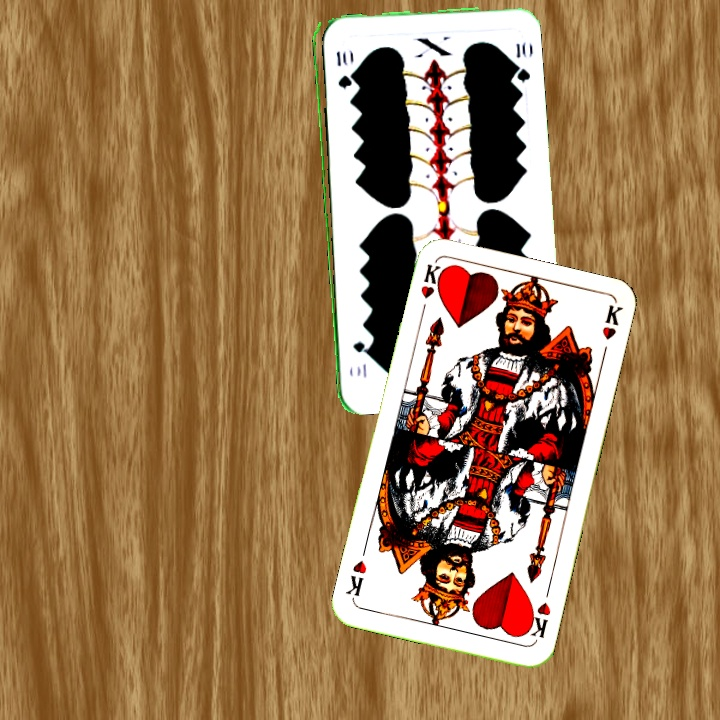G10: (332, 47, 350, 92)
HK: (416, 259, 445, 319), (522, 598, 553, 644)
